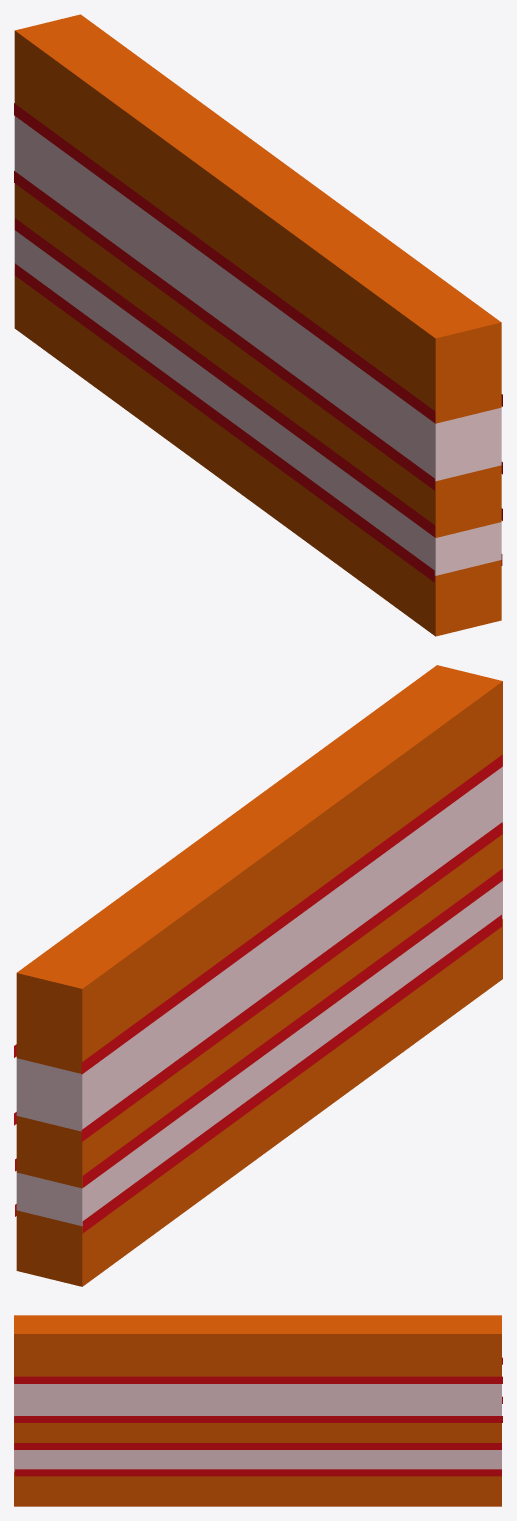
The model's file is wall clear.fbx.
3 views of the same model, one above another, from view 1: azimuth 30°, elevation 25°; view 2: azimuth 150°, elevation 25°; view 3: azimuth 270°, elevation 25° (orthographic). The views are drawn at different scales.
Visible parts, largest first — view 1: Cube, Cube.002, Cube.004, Cube.001; view 2: Cube, Cube.002, Cube.004, Cube.001; view 3: Cube, Cube.002, Cube.003, Cube.001.
Boxes of the visible parts, left/top/right/bottom form: Cube: left=14, top=14, right=501, bottom=636; Cube.002: left=14, top=116, right=501, bottom=481; Cube.004: left=14, top=103, right=435, bottom=582; Cube.001: left=14, top=230, right=501, bottom=575; Cube: left=16, top=665, right=502, bottom=1286; Cube.002: left=16, top=766, right=502, bottom=1131; Cube.004: left=81, top=754, right=502, bottom=1233; Cube.001: left=16, top=881, right=502, bottom=1226; Cube: left=14, top=1315, right=501, bottom=1506; Cube.002: left=14, top=1383, right=501, bottom=1416; Cube.003: left=14, top=1376, right=502, bottom=1476; Cube.001: left=14, top=1450, right=501, bottom=1471.
Size of the model in its own units: 577 by 2429 by 6226.
